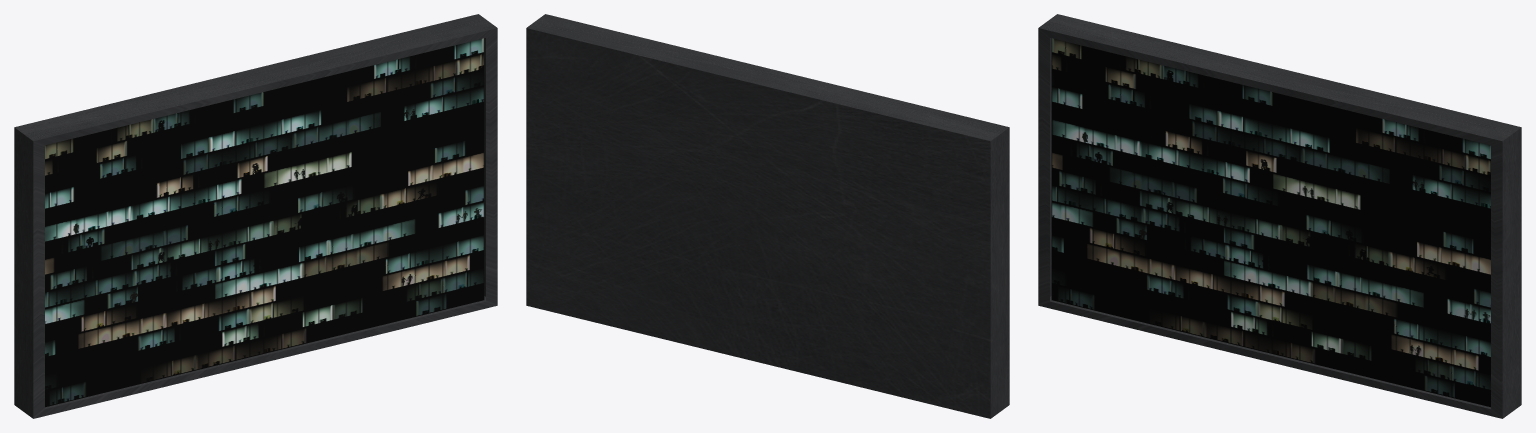
3 renders of one model, left to right at view 1: azimuth 30°, elevation 25°; view 2: azimuth 150°, elevation 25°; view 3: azimuth 330°, elevation 25°, orthographic.
Visible parts, largest first — view 1: Glass; view 2: Glass; view 3: Glass.
Part boxes in pixels (<box>): Glass: <box>14,14,497,418</box>; Glass: <box>526,14,1009,418</box>; Glass: <box>1038,14,1521,418</box>.
Size of the model in its own units: 0.7 by 0.4 by 0.05.
2 materials, 2 textured.
